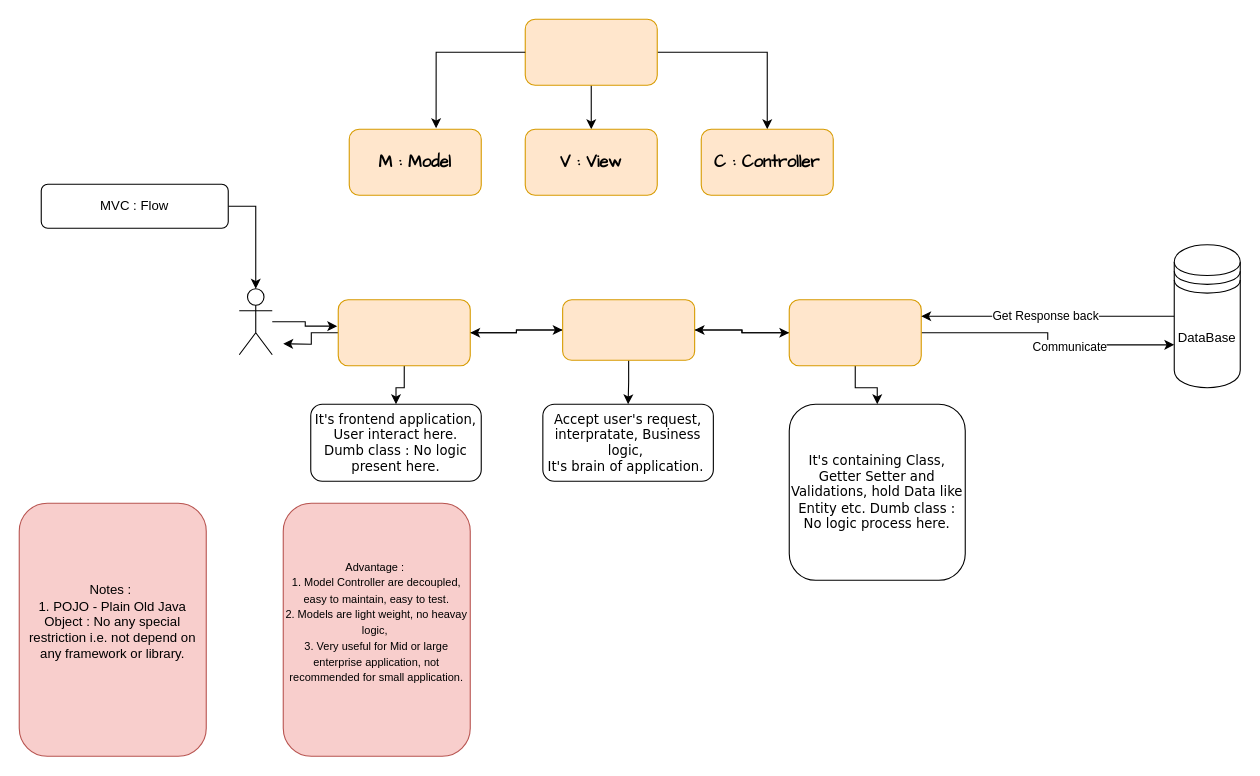
Some shapes in this 1260 by 776 pixel diagram are drawn without their labels. Here are the shapes that lost their labels. From the top down, the centre of each, then its label:
At point 590,51: "MVC Design".
At point 255,321: "Actor".
At point 403,332: "View".
At point 628,329: "Controller".
At point 854,332: "Model".
